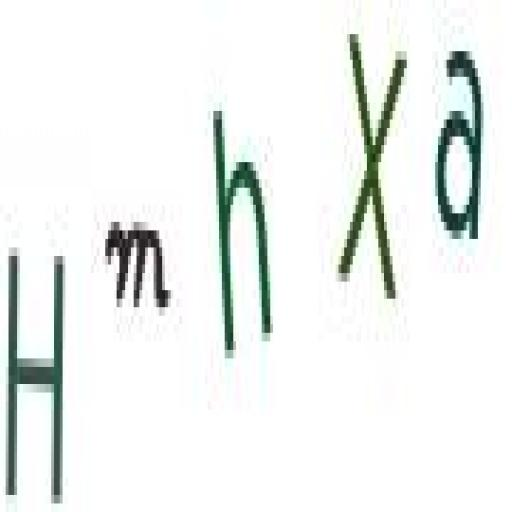H: (2, 215, 70, 512)
X: (336, 15, 410, 322)
a: (430, 27, 490, 268)
h: (206, 89, 282, 372)
m: (101, 209, 178, 328)
